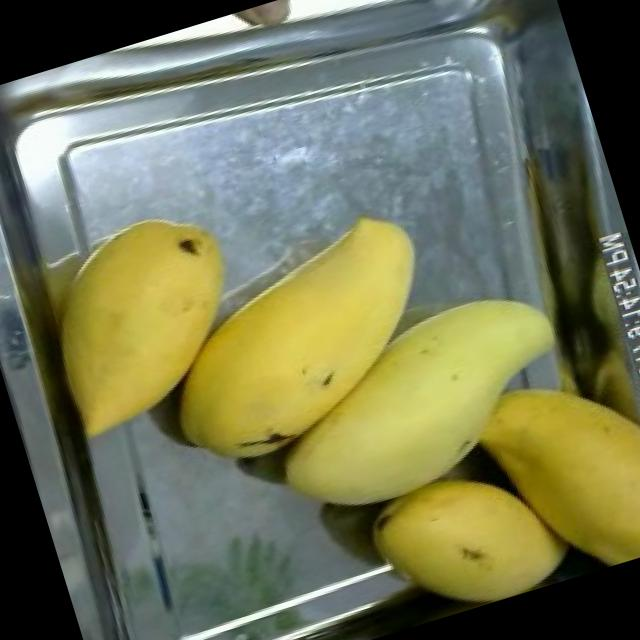fruit: (231, 248, 608, 550), (120, 202, 480, 494), (6, 180, 282, 457), (453, 330, 640, 594), (346, 439, 586, 634)
